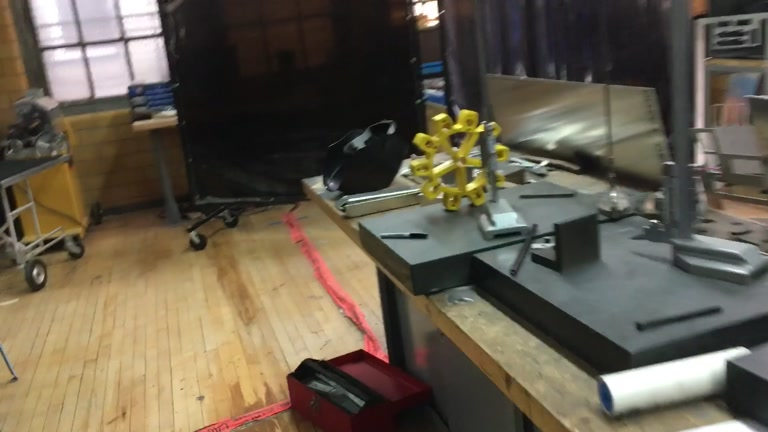gear: (409, 108, 511, 212)
